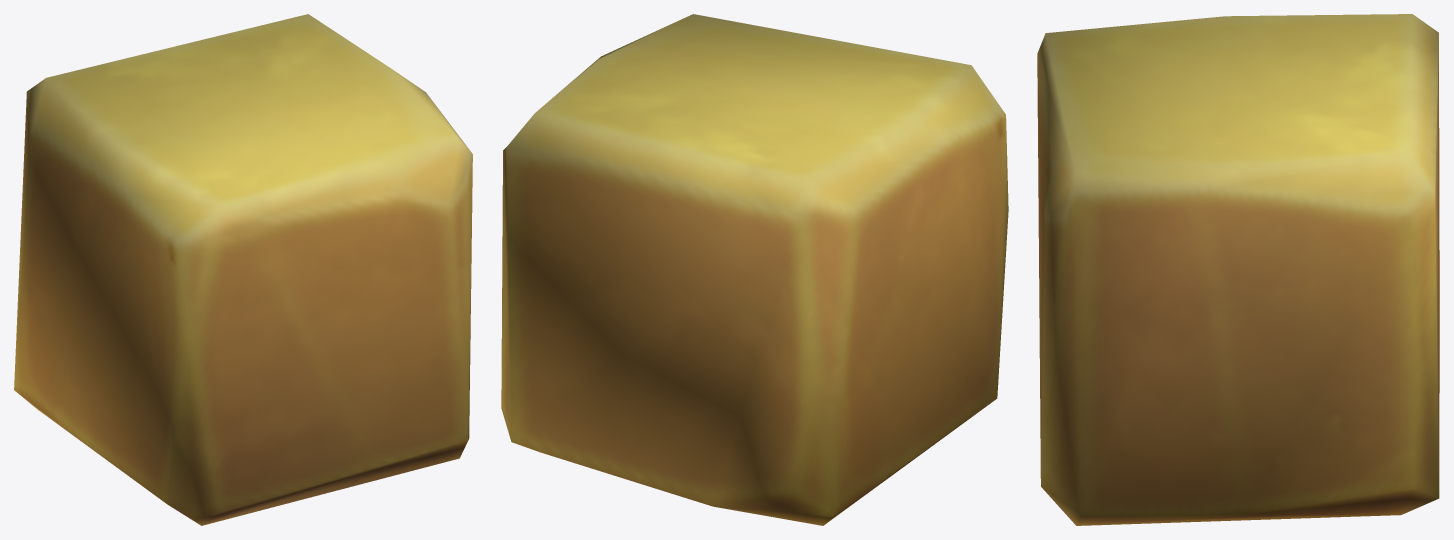
File: SM_Gem_Gold_Piece_002.fbx
3 renders of one model, left to right at view 1: azimuth 30°, elevation 25°; view 2: azimuth 150°, elevation 25°; view 3: azimuth 270°, elevation 25°, orthographic. The views are drawn at different scales.
Visible parts, largest first — view 1: SM_Gem_Gold_Piece_002; view 2: SM_Gem_Gold_Piece_002; view 3: SM_Gem_Gold_Piece_002.
Boxes of the visible parts, x1=… form: SM_Gem_Gold_Piece_002: x1=14, y1=14, x2=472, y2=525; SM_Gem_Gold_Piece_002: x1=501, y1=14, x2=1008, y2=525; SM_Gem_Gold_Piece_002: x1=1037, y1=14, x2=1439, y2=525.
Size of the model in its own units: 11.3 by 11.23 by 11.02.
